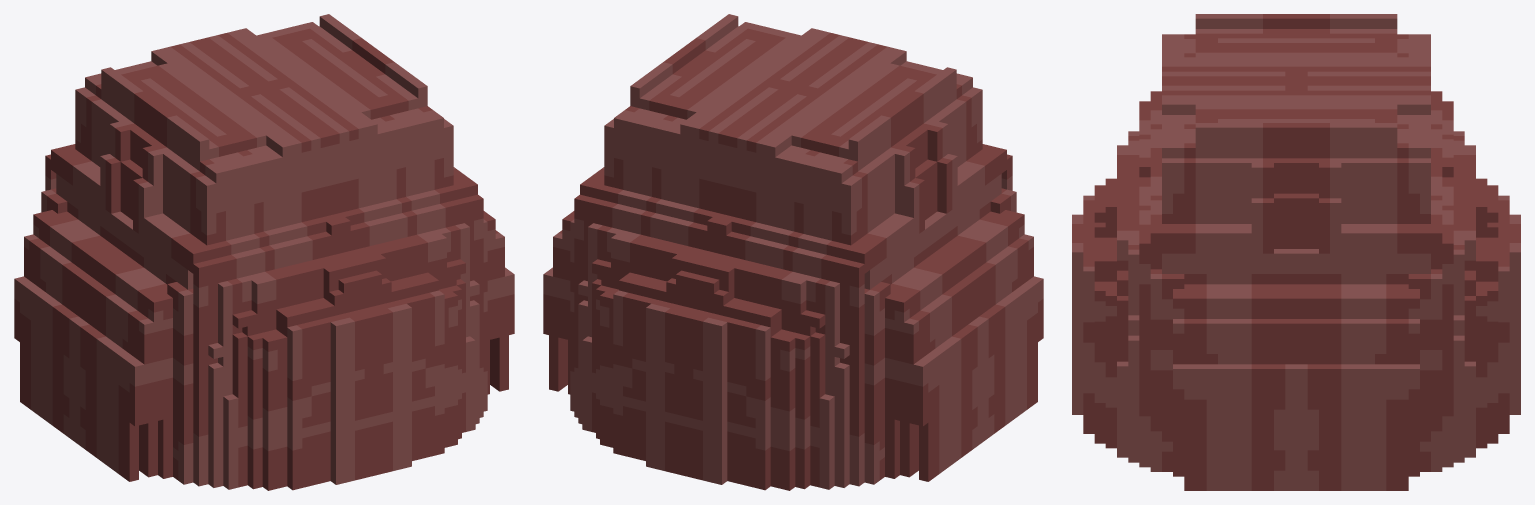
The model's file is groundwall.obj.
The picture shows the model from 3 angles, left to right: view 1: azimuth 30°, elevation 25°; view 2: azimuth 150°, elevation 25°; view 3: azimuth 270°, elevation 25°; orthographic projection. The views are drawn at different scales.
Bounding box in the file's own units: 40 × 32 × 40.
1 material, 1 textured.
